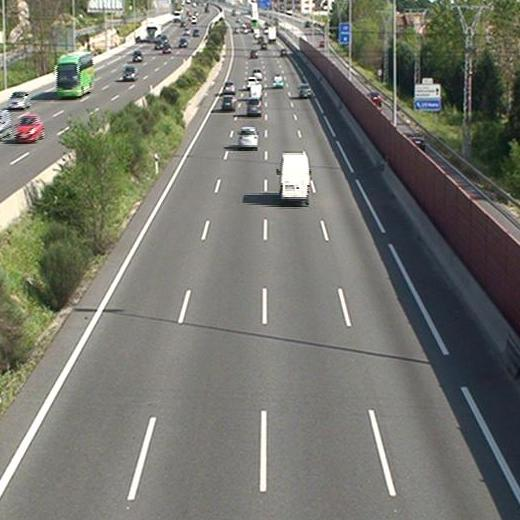car: (237, 128, 259, 148), (246, 98, 262, 115), (221, 96, 236, 110), (298, 83, 311, 98), (271, 74, 283, 87), (222, 82, 234, 95), (251, 68, 262, 79), (250, 50, 257, 58)
van: (278, 154, 310, 200), (249, 82, 263, 99)
